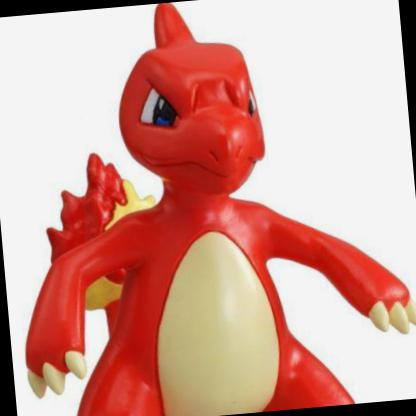Glutexo: (0, 65, 376, 415)
